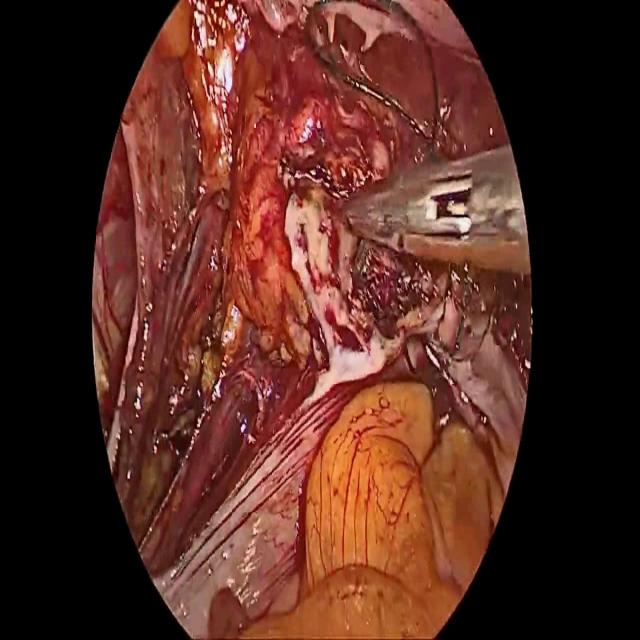surgical-area: (92, 0, 530, 639)
surgical-tool: (334, 144, 532, 276)
